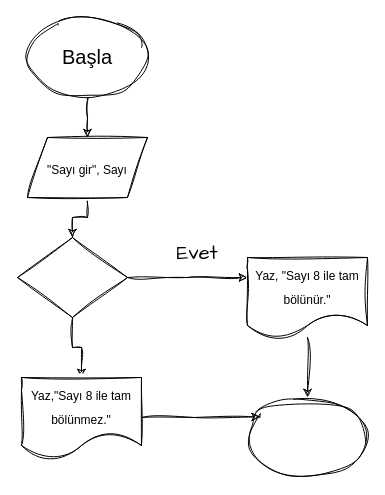
Image size: 385x495. Some labels were removed from this diagram. Each missing label, with the centre of its shape:
Bitir: (307,437)
Sa yı 8x==0: (72,277)
